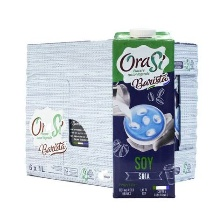carton: (108, 24, 180, 204)
